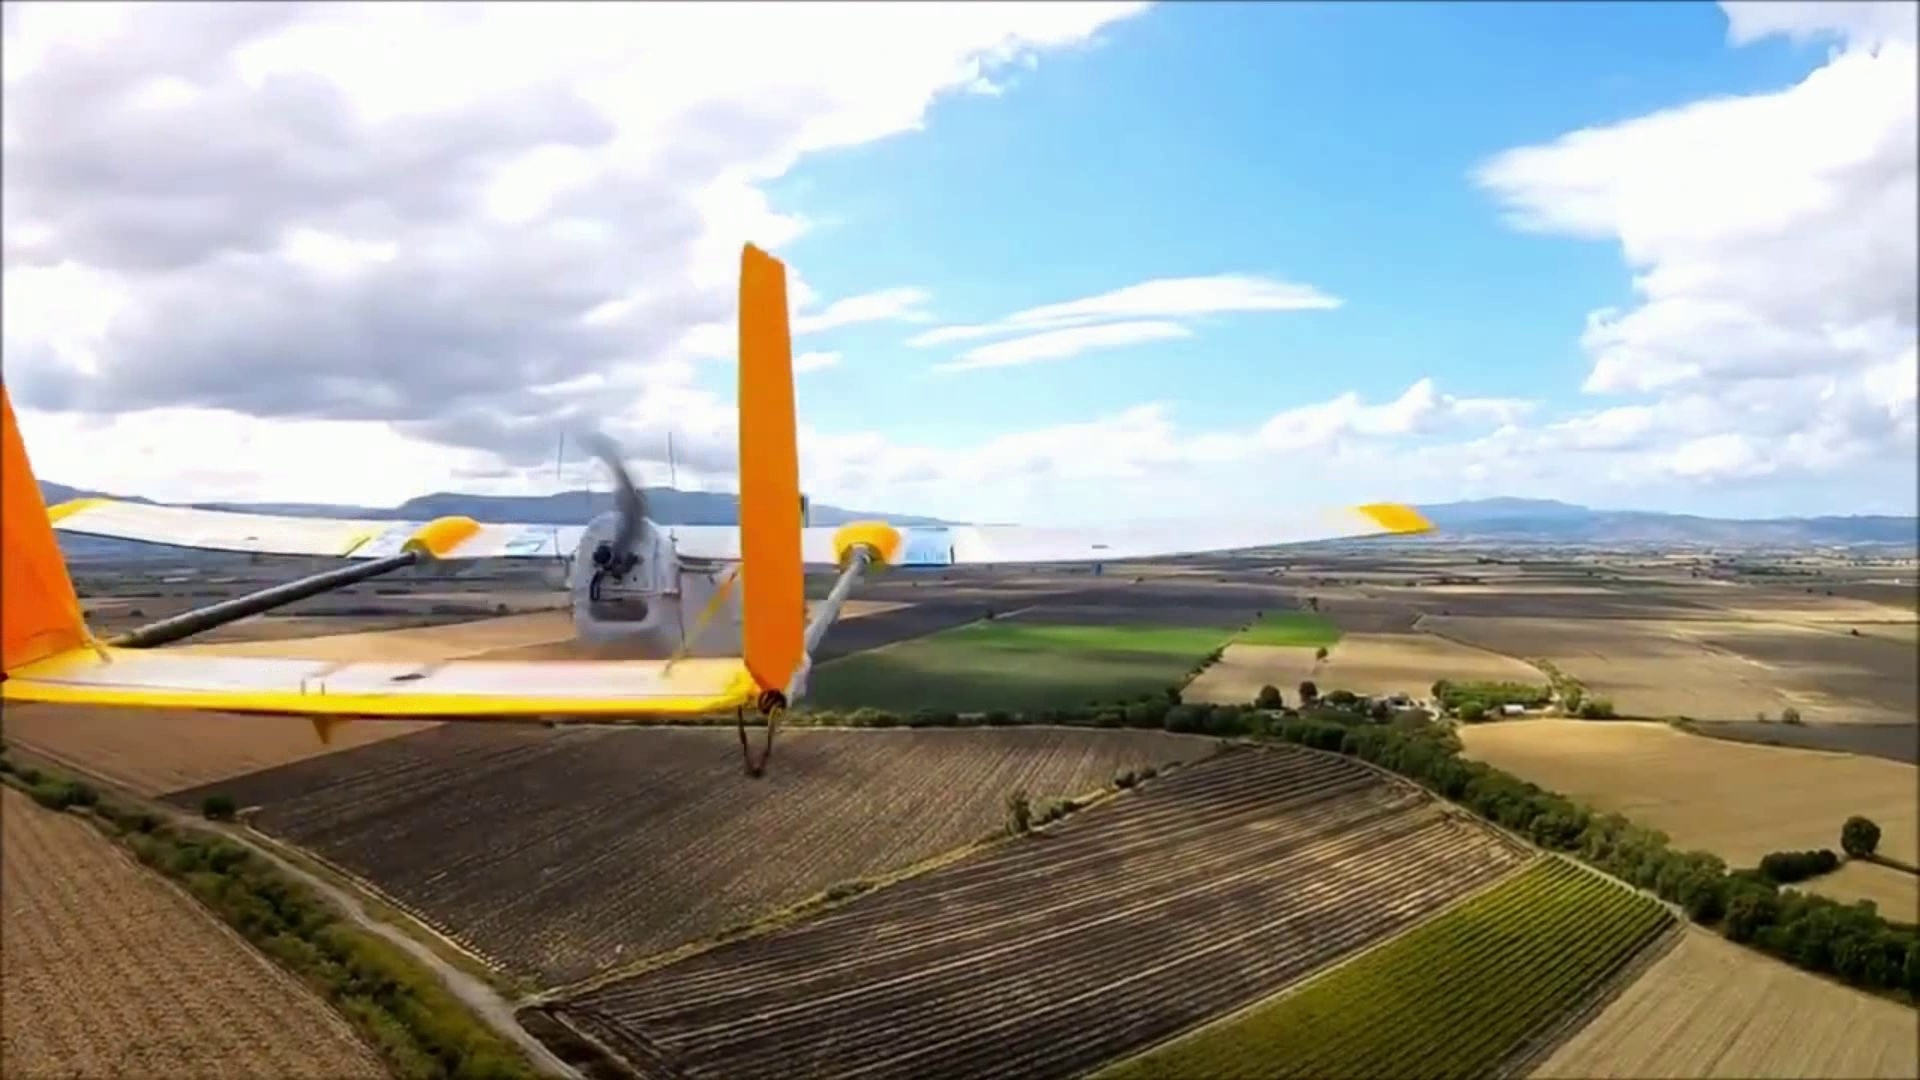airplane: (7, 236, 1513, 790)
